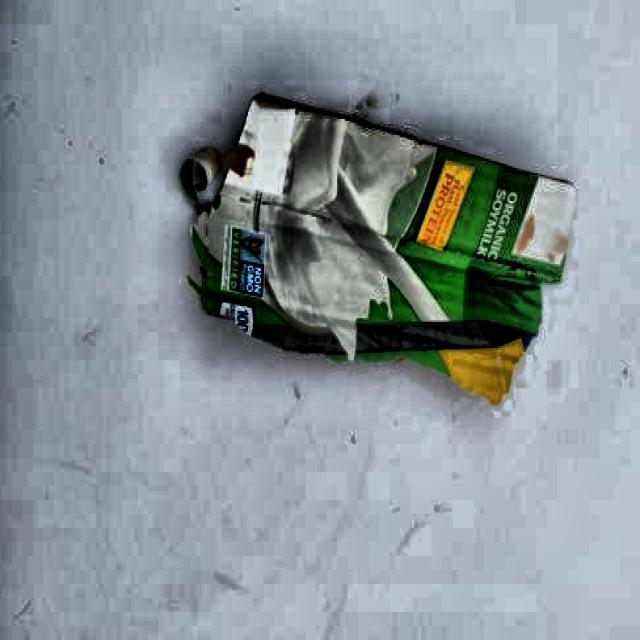cardboard: (183, 94, 578, 410)
